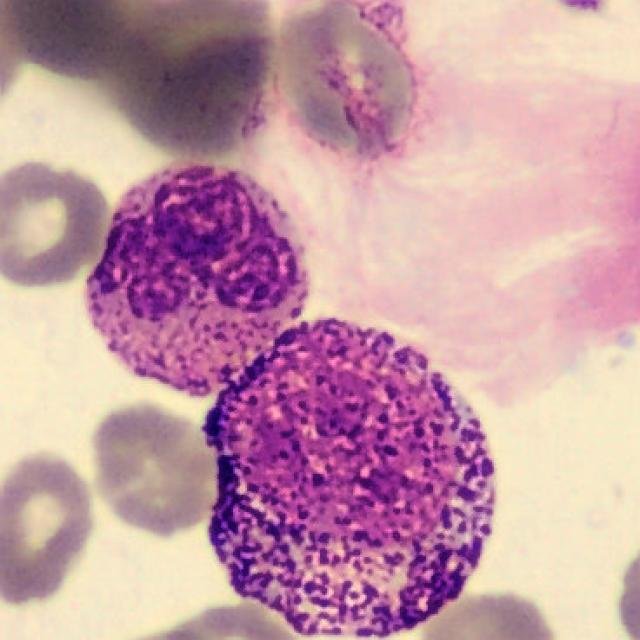Neutrofilo segmentado: (87, 164, 311, 400)
Promielocito: (202, 320, 496, 638)
